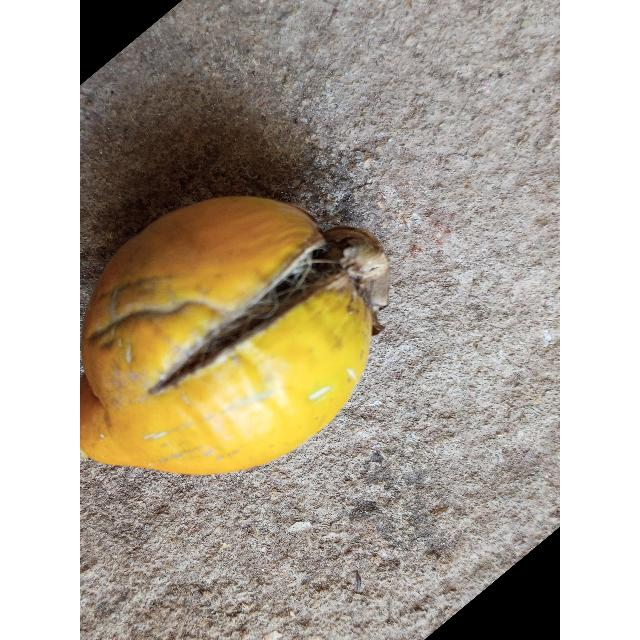damaged: (80, 196, 390, 479)
